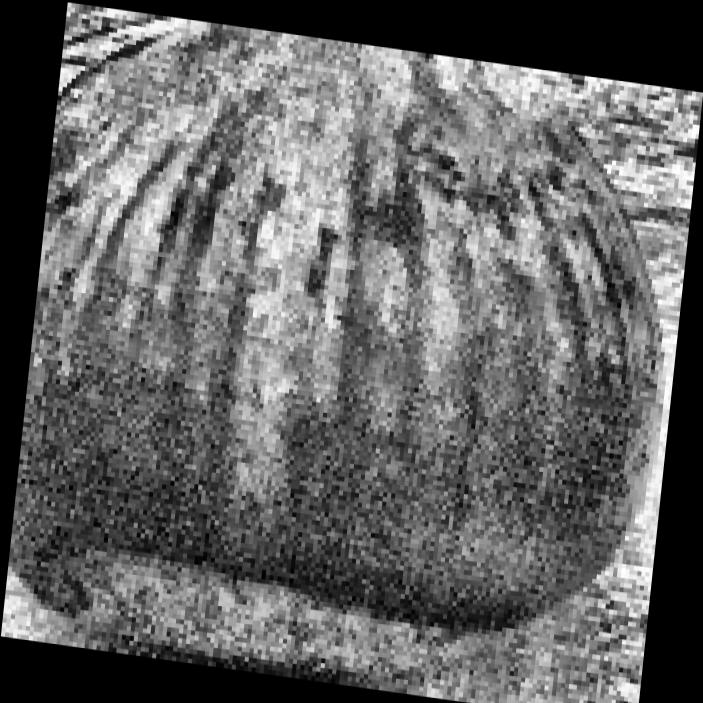qualityHazelnut: (0, 0, 699, 703)
